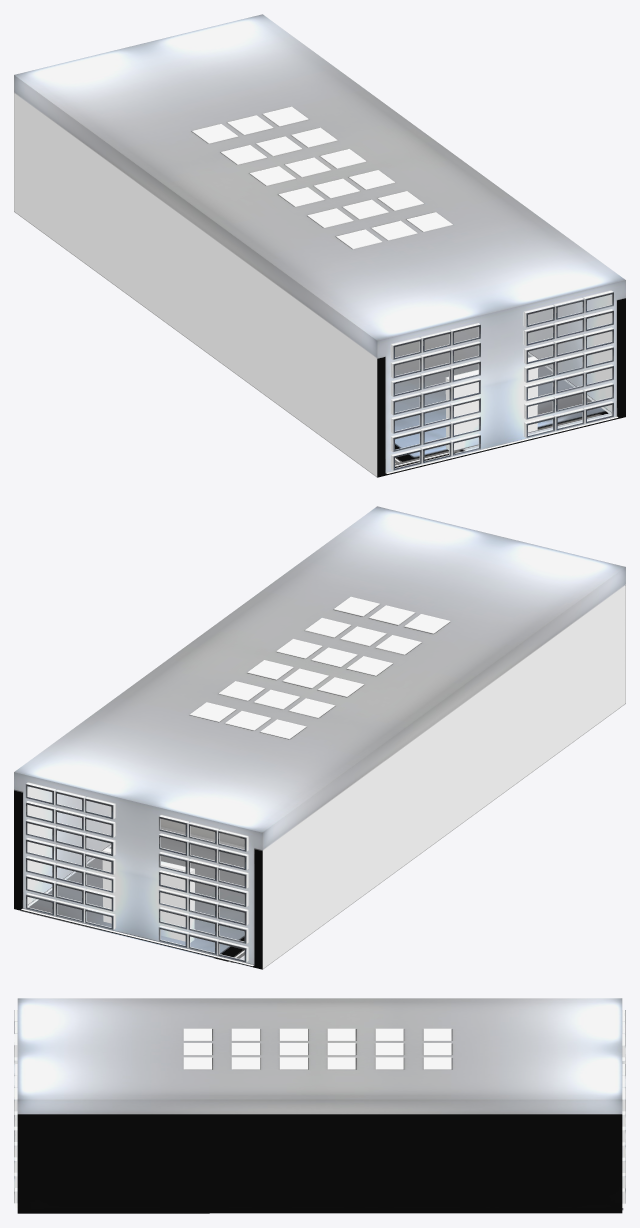
The picture shows the model from 3 angles, top to bottom: view 1: azimuth 30°, elevation 25°; view 2: azimuth 150°, elevation 25°; view 3: azimuth 270°, elevation 25°; orthographic projection. The views are drawn at different scales.
Parts seen in each view (by area): view 1: Raum, Lampen_oben, Floor; view 2: Raum, Lampen_oben, Floor; view 3: Raum, Lampen_oben.
Part boxes in pixels (x1,y1,x2,y2): Raum: (14, 14, 625, 477); Lampen_oben: (192, 106, 452, 249); Floor: (395, 327, 610, 467); Raum: (14, 506, 625, 969); Lampen_oben: (189, 596, 450, 739); Floor: (21, 819, 252, 967); Raum: (14, 998, 625, 1213); Lampen_oben: (183, 1028, 451, 1069).
Size of the model in its own units: 7.66 by 4.05 by 19.61.
3 materials, 2 textured.
